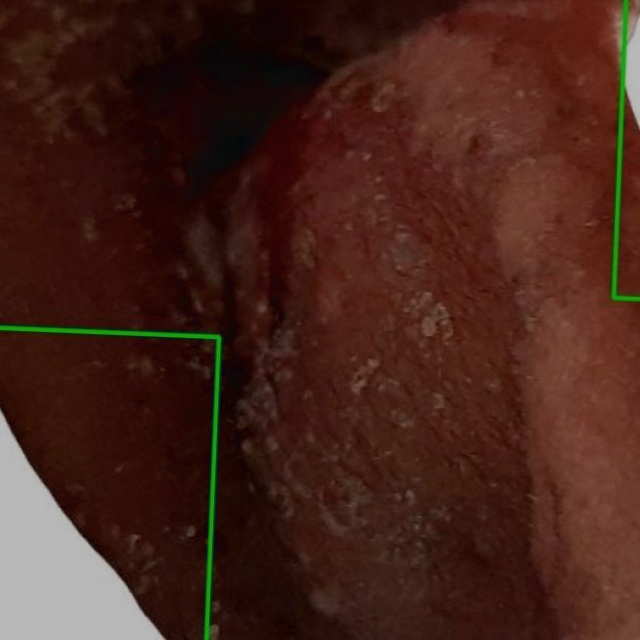Contact Dermatitis: (0, 328, 218, 639)
